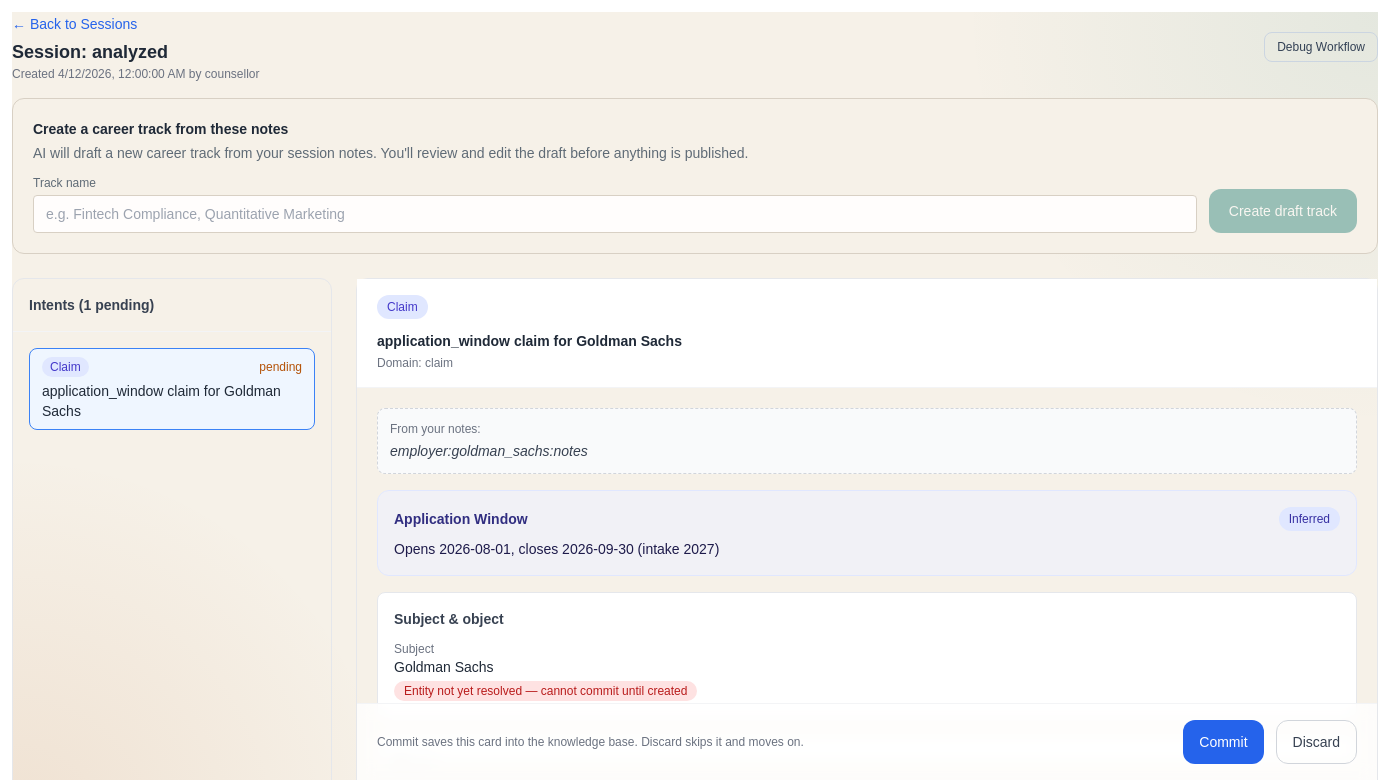
Scenario: SmartCanvas › shows an unresolved-entity warning and commits claim cards to the dedicated claim-commit endpoint
Expected: the heading "application_window claim for Goldman Sachs" is shown, 377,331 -> 682,351
Expected: the text "Entity not yet resolved — cannot commit until created" is shown, 394,681 -> 698,701
Click the button "Commit" at (1223, 742), box 1183,720 -> 1264,764
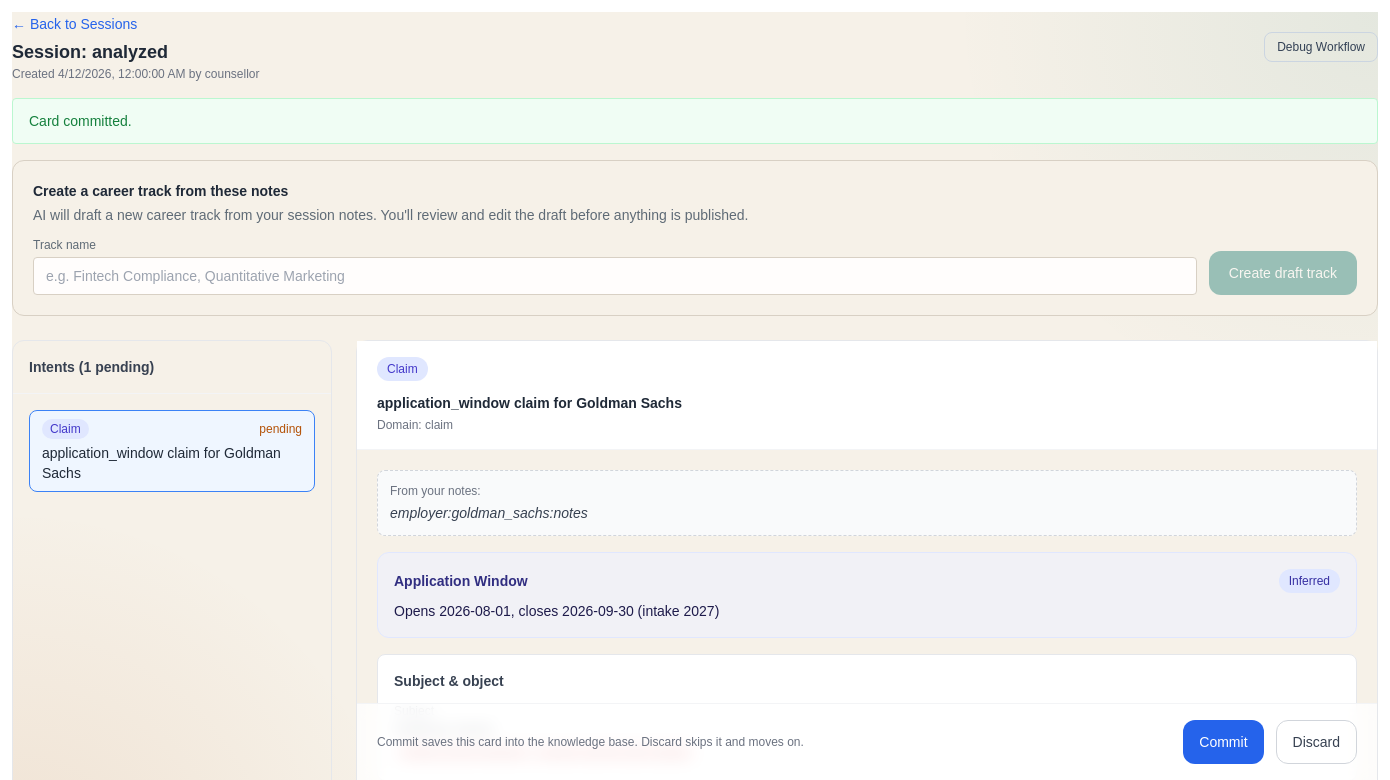
Result: the text "Card committed." is shown at 12,98 -> 1378,144
